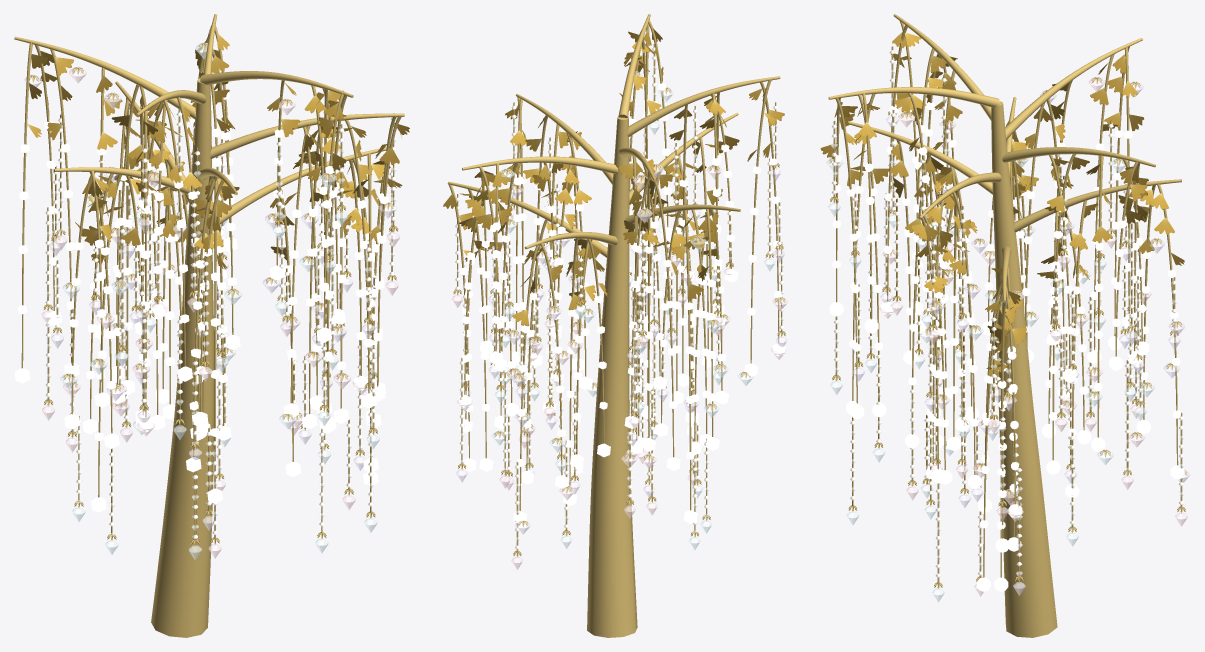
The model's file is houju_weeping.glb.
3 renders of one model, left to right at view 1: azimuth 30°, elevation 25°; view 2: azimuth 150°, elevation 25°; view 3: azimuth 270°, elevation 25°, orthographic. The views are drawn at different scales.
Parts seen in each view (by area): view 1: weeping, jewels, foliage, gold_wire, pearl_batch, mizu_batch, sakura_batch, fuji_batch, hari_batch, gold_fitting; view 2: weeping, jewels, foliage, gold_wire, pearl_batch, sakura_batch, mizu_batch, fuji_batch, gold_fitting, hari_batch; view 3: weeping, jewels, foliage, gold_wire, pearl_batch, mizu_batch, sakura_batch, hari_batch, gold_fitting, fuji_batch.
Boxes of the visible parts, x1,y1,x2,y2 form: weeping: [14, 14, 404, 637]; jewels: [14, 89, 388, 512]; foliage: [27, 34, 409, 268]; gold_wire: [47, 108, 394, 544]; pearl_batch: [45, 112, 396, 539]; mizu_batch: [60, 42, 379, 559]; sakura_batch: [41, 66, 399, 558]; fuji_batch: [24, 74, 396, 530]; hari_batch: [44, 132, 396, 536]; gold_fitting: [29, 43, 398, 545]; weeping: [447, 14, 780, 637]; jewels: [458, 83, 785, 524]; foliage: [443, 28, 784, 326]; gold_wire: [457, 44, 782, 555]; pearl_batch: [455, 47, 784, 549]; sakura_batch: [451, 71, 788, 569]; mizu_batch: [491, 87, 775, 549]; fuji_batch: [456, 163, 787, 534]; gold_fitting: [453, 71, 785, 556]; hari_batch: [454, 65, 784, 541]; weeping: [828, 14, 1181, 637]; jewels: [829, 102, 1184, 591]; foliage: [820, 31, 1184, 375]; gold_wire: [833, 46, 1182, 587]; pearl_batch: [831, 50, 1184, 577]; mizu_batch: [826, 157, 1154, 602]; sakura_batch: [879, 76, 1187, 596]; hari_batch: [831, 69, 1184, 576]; gold_fitting: [829, 77, 1187, 588]; fuji_batch: [852, 81, 1190, 595].
Size of the model in its own units: 3.53 by 5.98 by 3.61.
Materials: 9 (1 with a texture image).
